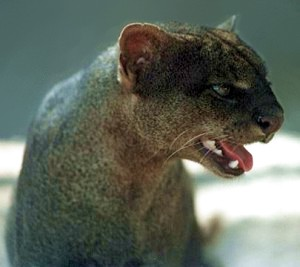Jaguarundi: (25, 9, 286, 202)
